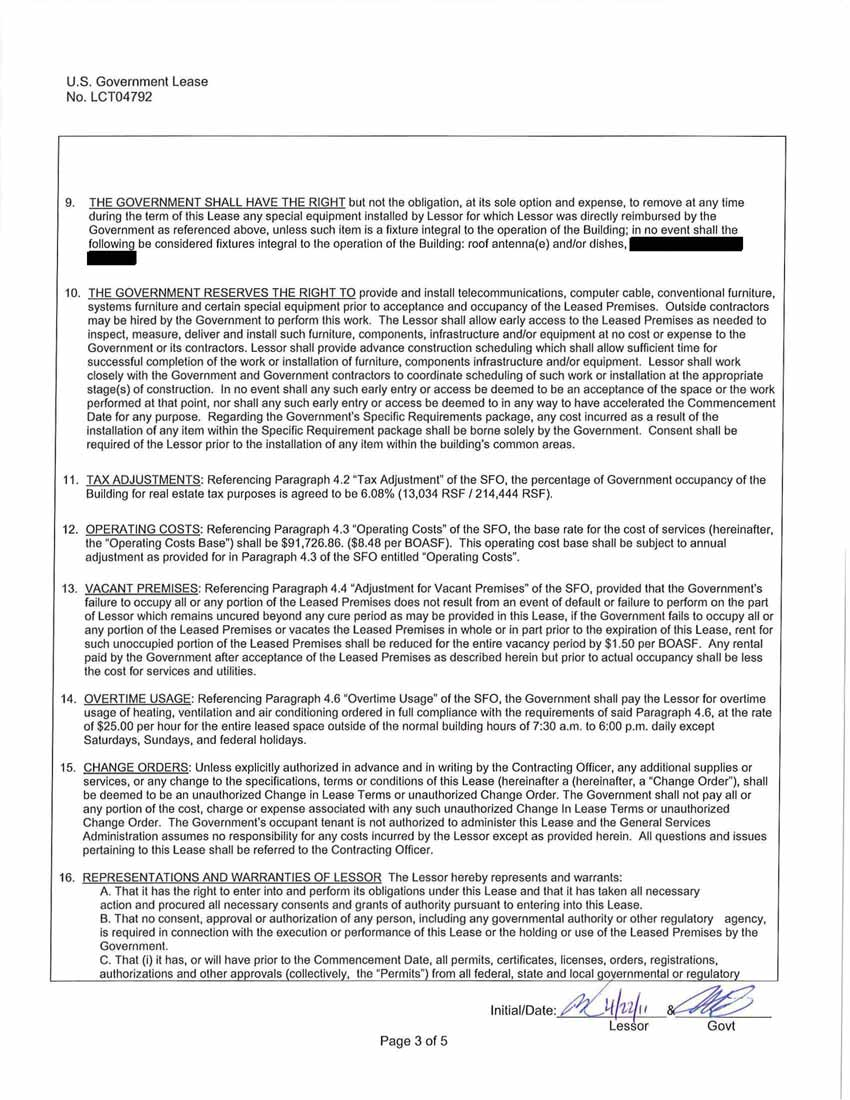handwritten: (555, 977, 763, 1022)
